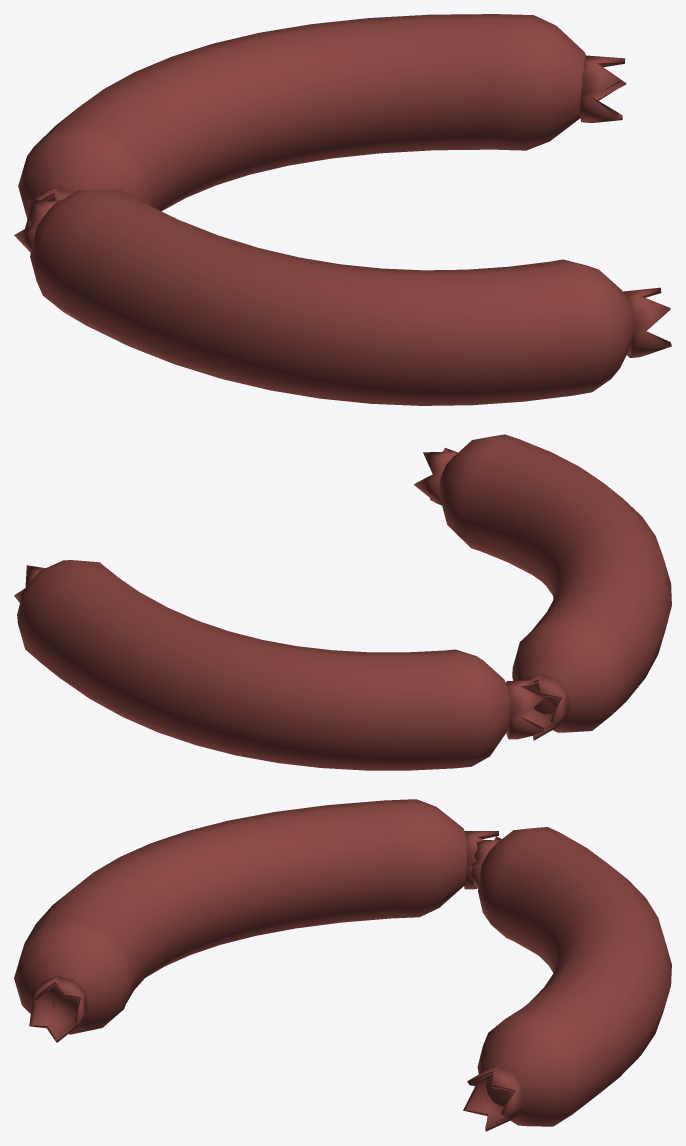
File: SausageColor.fbx
3 views of the same model, one above another, from view 1: azimuth 30°, elevation 25°; view 2: azimuth 150°, elevation 25°; view 3: azimuth 270°, elevation 25° (orthographic). The views are drawn at different scales.
Parts seen in each view (by area): view 1: SausageColor; view 2: SausageColor; view 3: SausageColor.
Boxes of the visible parts, x1,y1,x2,y2 form: SausageColor: (14,14,671,405); SausageColor: (14,434,671,770); SausageColor: (14,799,671,1131).
Size of the model in its own units: 139 by 25.76 by 142.
